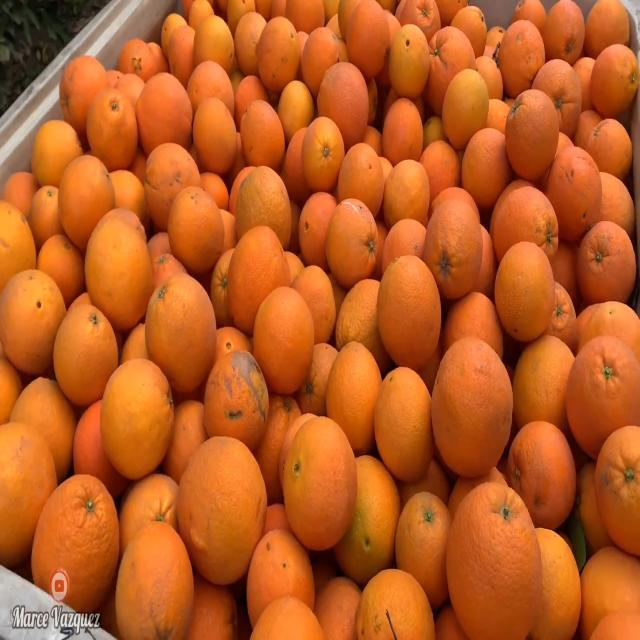Jeruk Sudah Matang: (428, 331, 513, 481), (99, 354, 178, 478), (503, 418, 578, 532), (223, 219, 292, 334), (321, 192, 382, 292), (167, 185, 228, 275), (301, 117, 347, 191)
